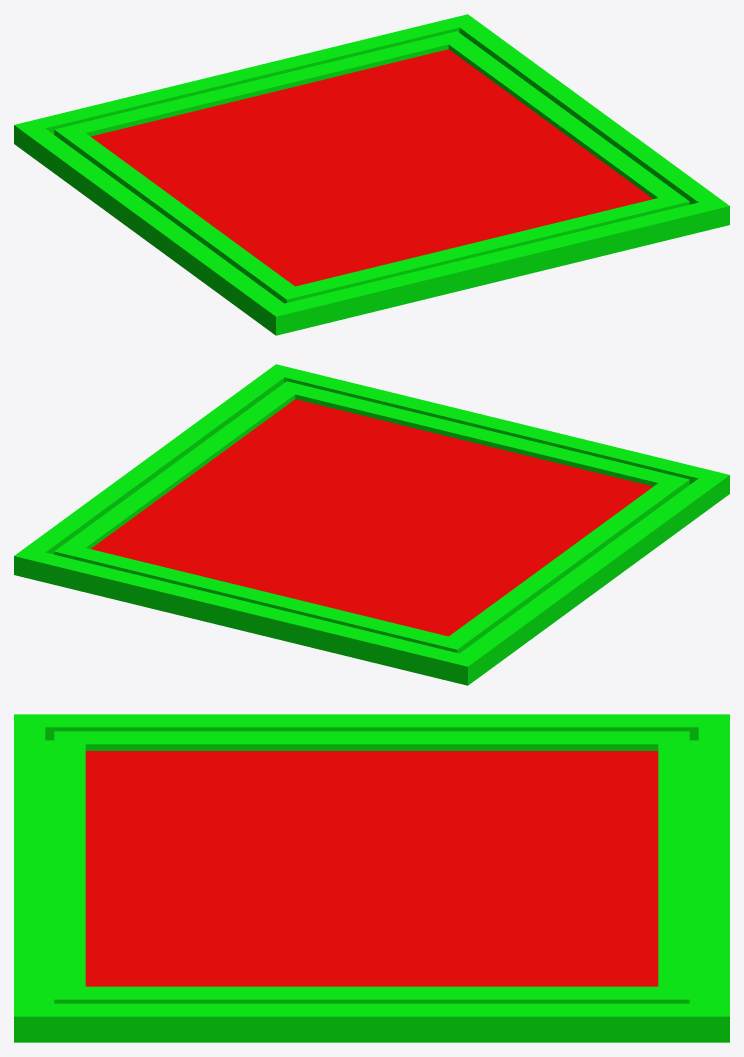
The model's file is Tableau.FBX.
The picture shows the model from 3 angles, top to bottom: view 1: azimuth 30°, elevation 25°; view 2: azimuth 150°, elevation 25°; view 3: azimuth 270°, elevation 25°; orthographic projection. The views are drawn at different scales.
Visible parts, largest first — view 1: Tableau001; view 2: Tableau001; view 3: Tableau001.
Part boxes in pixels (<box>): Tableau001: <box>14,14,729,335</box>; Tableau001: <box>14,364,729,685</box>; Tableau001: <box>14,714,729,1042</box>.
Bounding box in the file's own units: 50 × 2 × 50.
